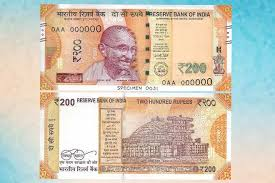twoHundred: (52, 20, 214, 78)
